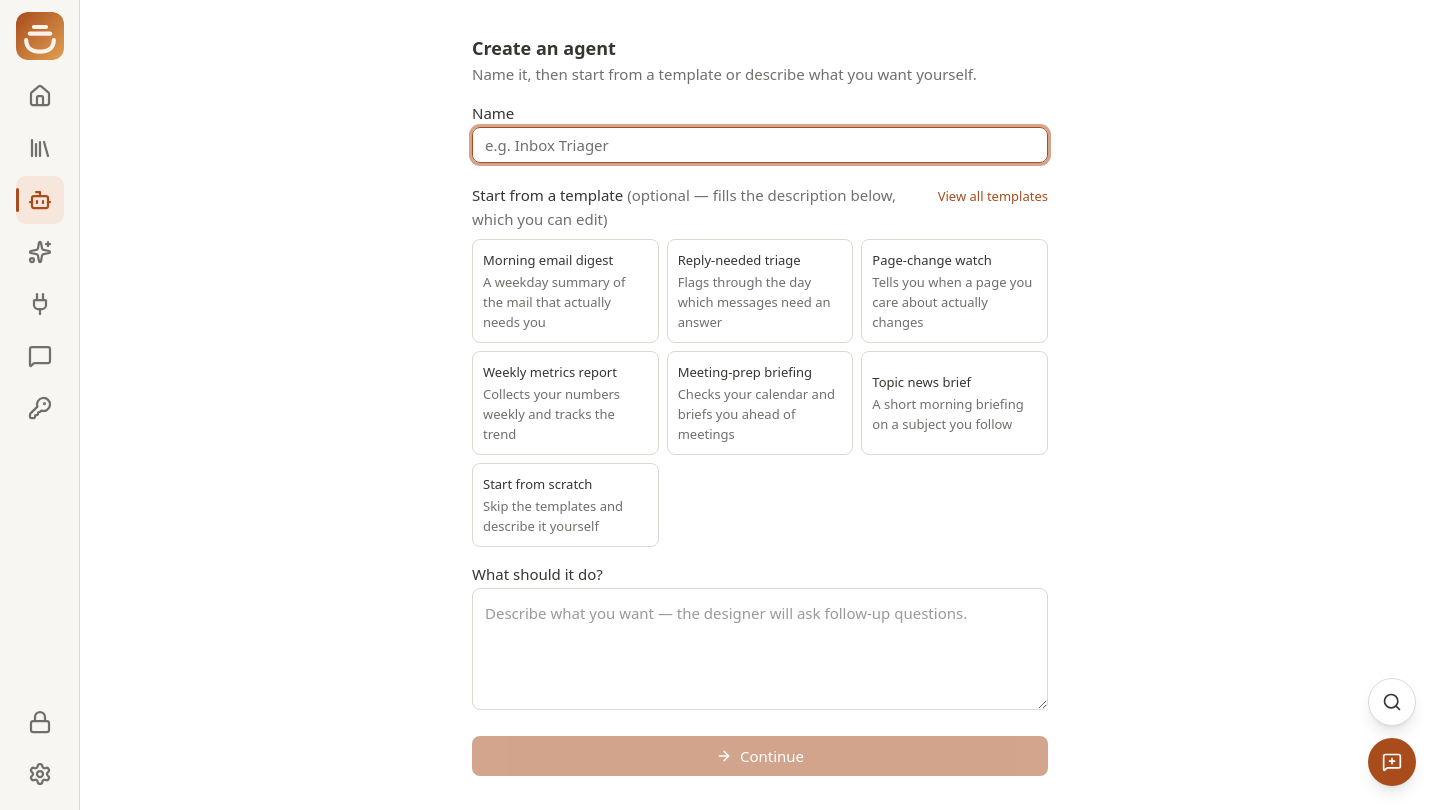
Test: selecting from the gallery fills the description and closes the modal
Expected: the text box labelled "What should it do?" is shown, [472,588,1048,710]
Click the button "View all templates". click: click(993, 196)
box: [938,186,1048,206]
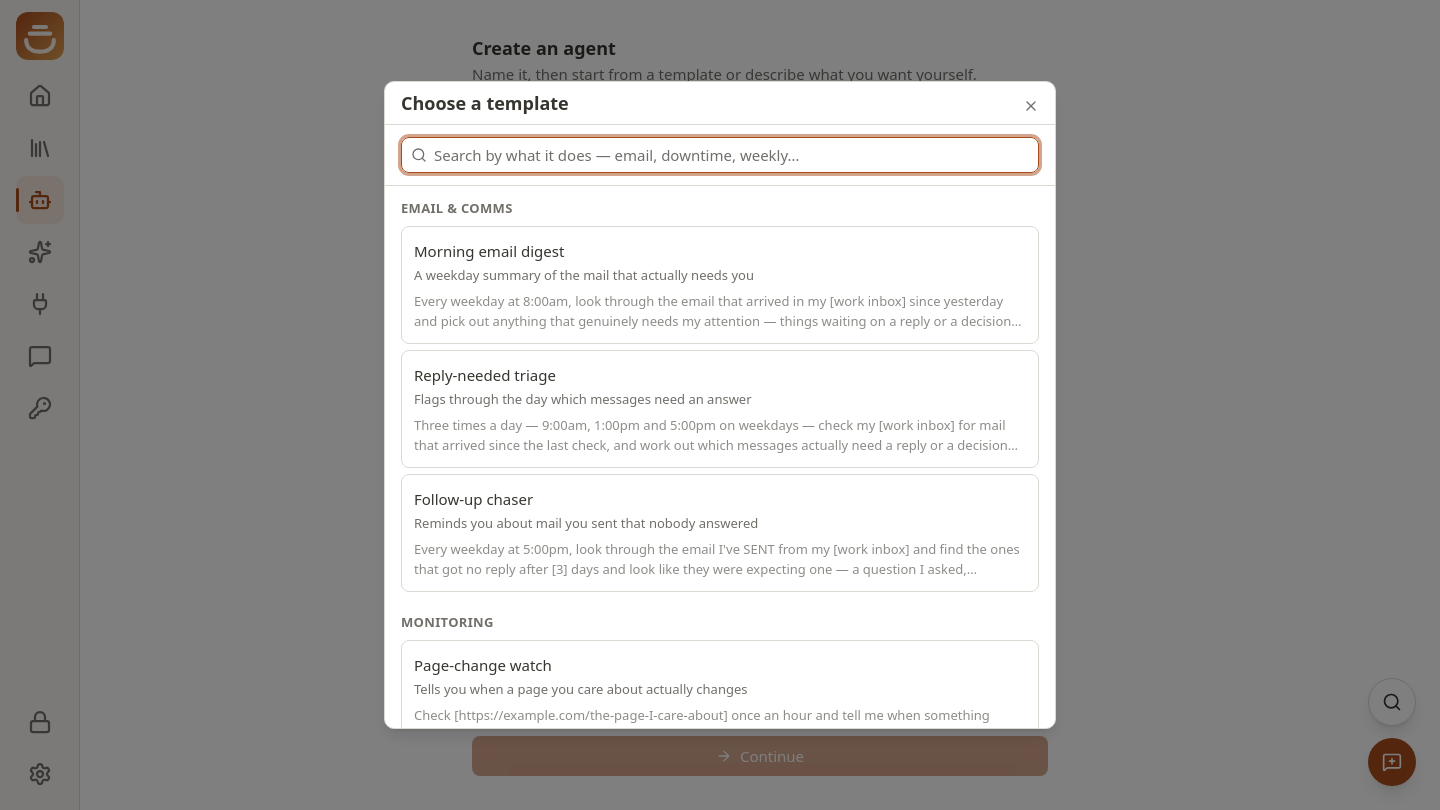
Type "downtime" into the search field named "search templates". click: (720, 155)
box: [401,137,1039,173]
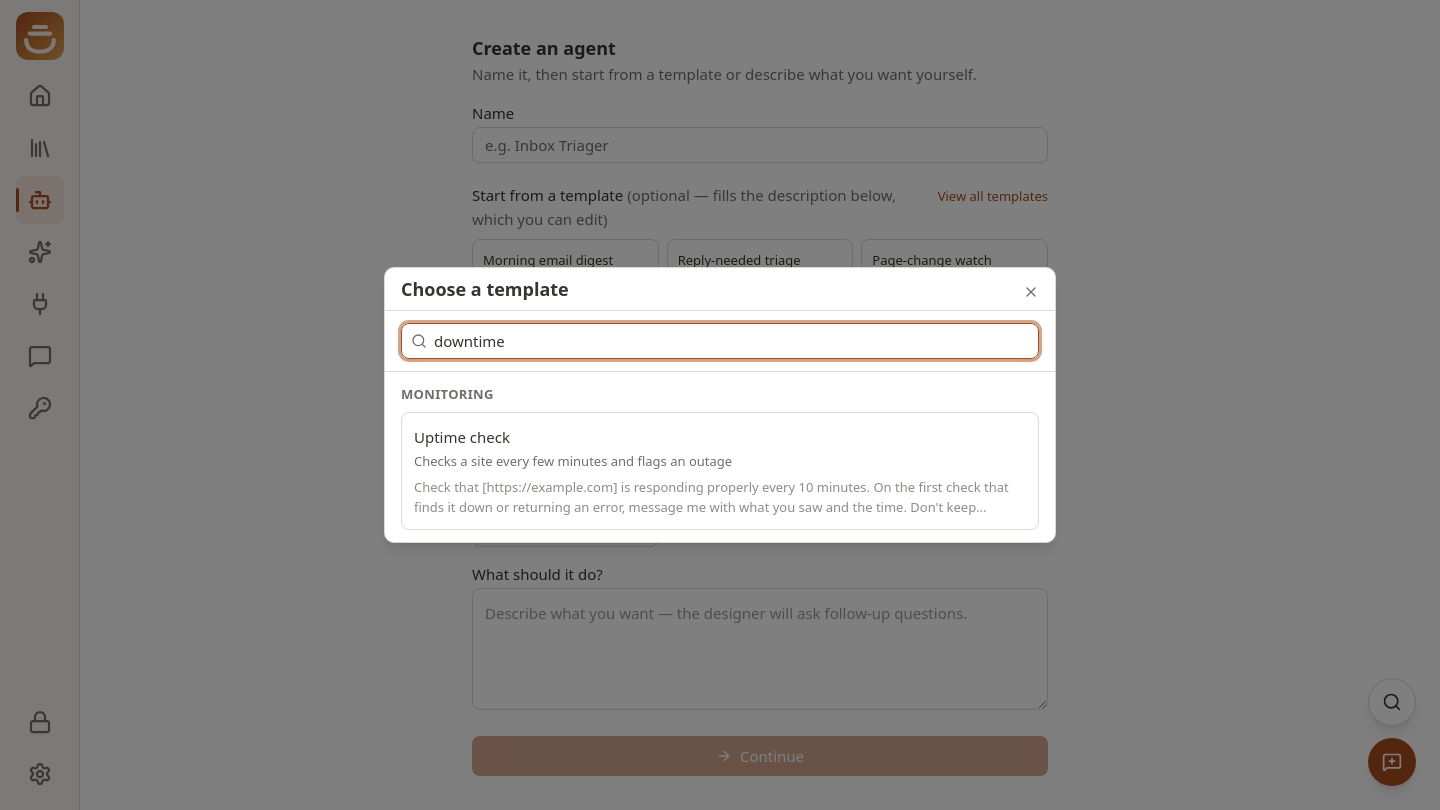
Click the button "Uptime check". click: click(720, 471)
box: [401,412,1039,530]
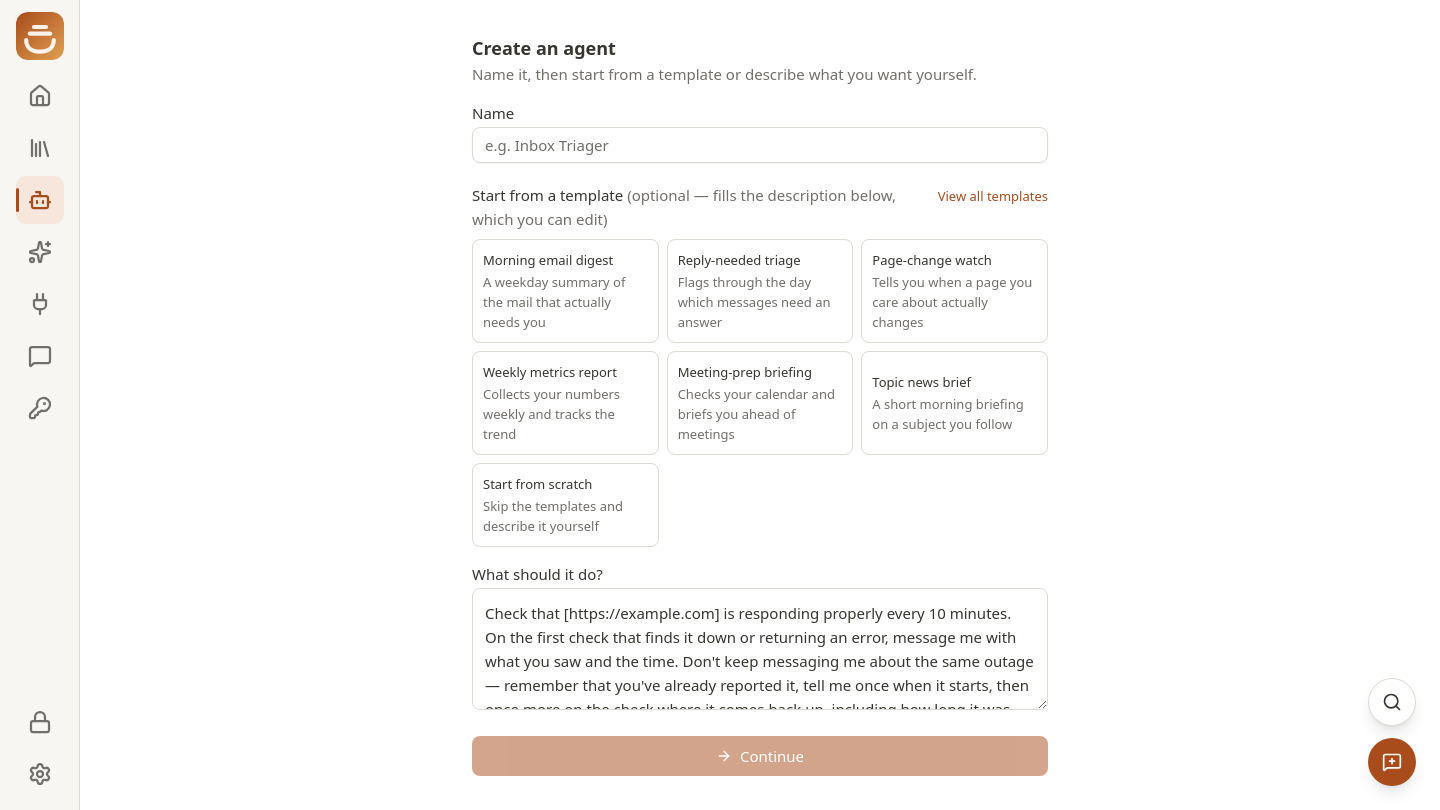
Expected: the dialog is gone
